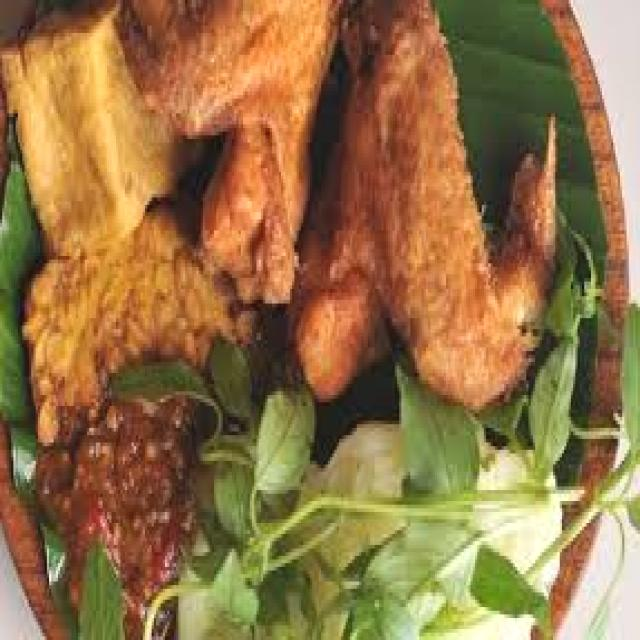ayam goreng: (299, 0, 553, 406), (120, 0, 341, 300)
